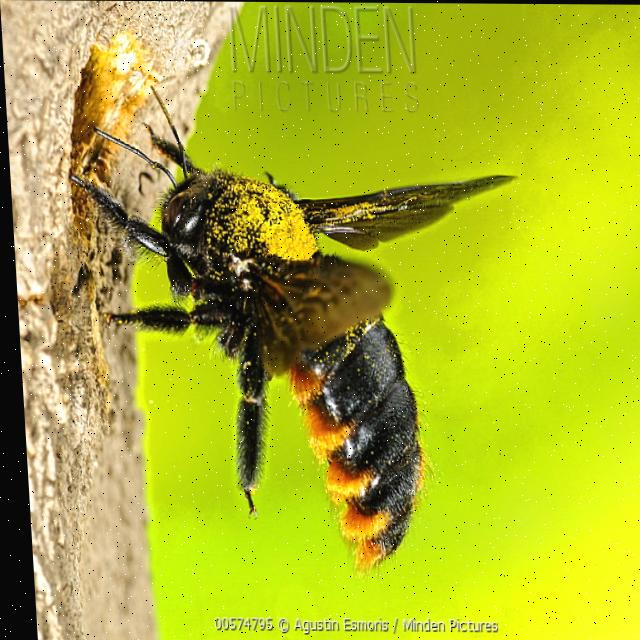Xylocopa: (66, 54, 540, 580)
